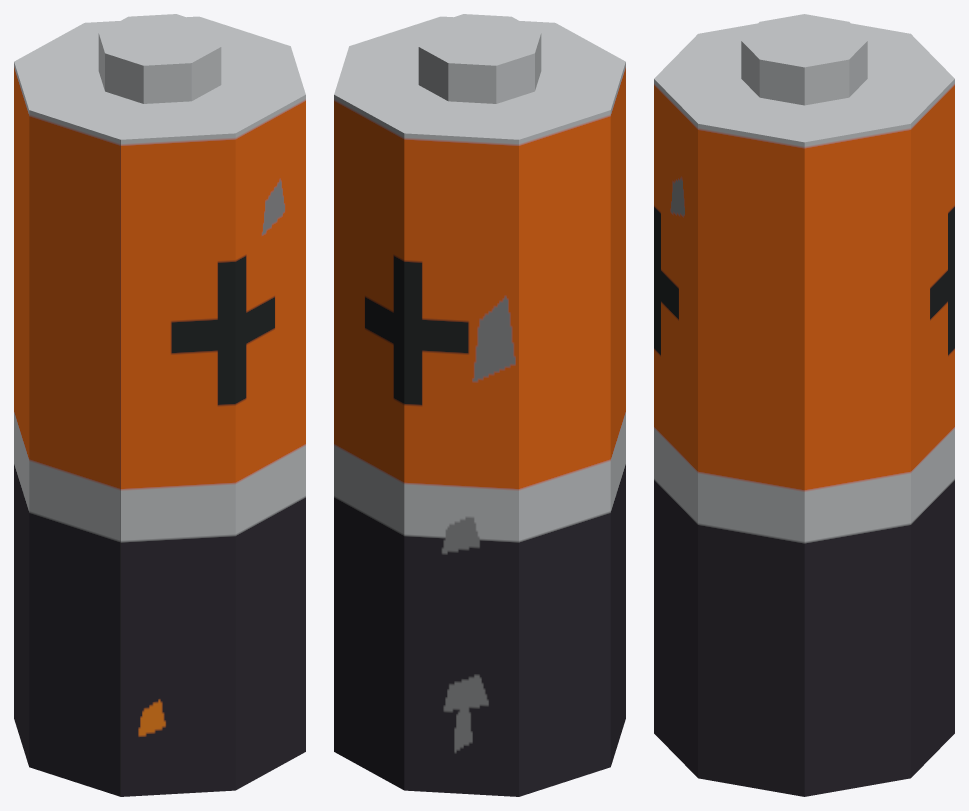
The model's file is Dead_Battery.fbx.
The picture shows the model from 3 angles, left to right: view 1: azimuth 30°, elevation 25°; view 2: azimuth 150°, elevation 25°; view 3: azimuth 270°, elevation 25°; orthographic projection.
Visible parts, largest first — view 1: Dead_Battery; view 2: Dead_Battery; view 3: Dead_Battery.
Part boxes in pixels (x1=…): Dead_Battery: x1=14, y1=14, x2=305, y2=796; Dead_Battery: x1=334, y1=14, x2=625, y2=796; Dead_Battery: x1=654, y1=14, x2=954, y2=796.
Bounding box in the file's own units: 0.2898 × 0.7361 × 0.2898.
Materials: 1 (1 with a texture image).
